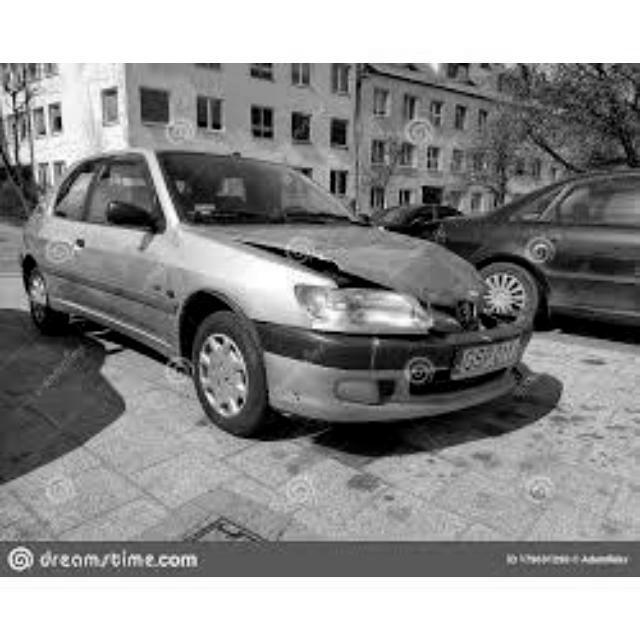bonnet-dent: (233, 233, 489, 322)
